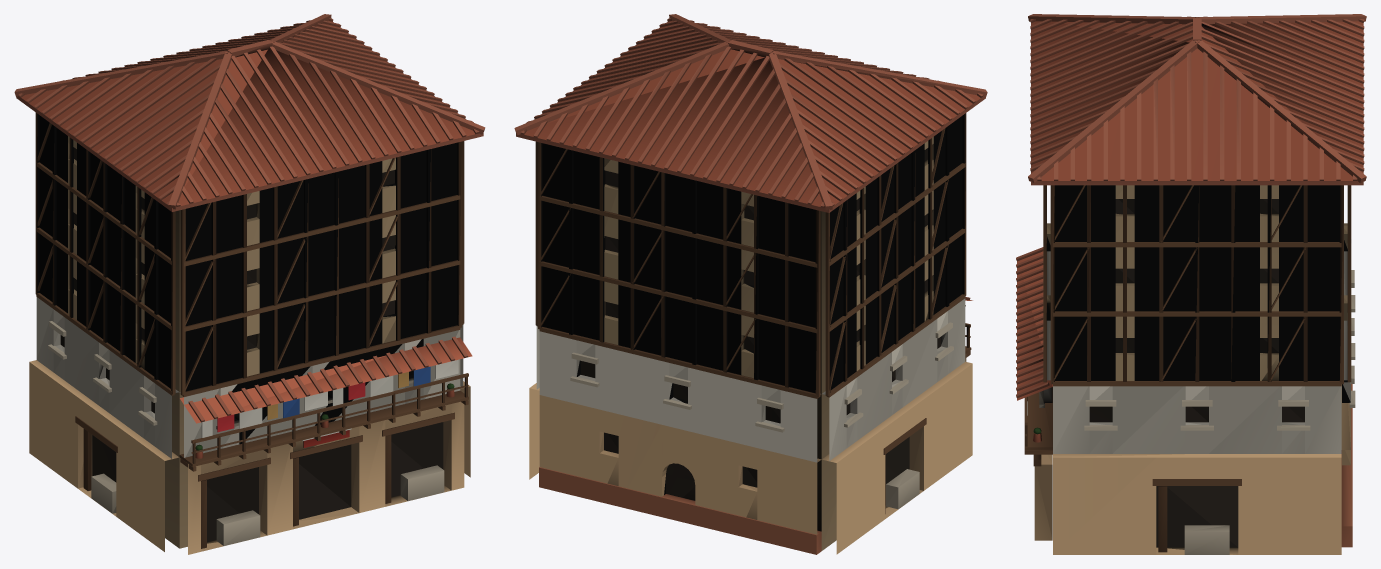
The model's file is rome_insula_a.glb.
3 renders of one model, left to right at view 1: azimuth 30°, elevation 25°; view 2: azimuth 150°, elevation 25°; view 3: azimuth 270°, elevation 25°, orthographic. The views are drawn at different scales.
Visible parts, largest first — view 1: rome_insula_a; view 2: rome_insula_a; view 3: rome_insula_a.
Part boxes in pixels (left/top/right/bottom): rome_insula_a: left=14, top=14, right=485, bottom=554; rome_insula_a: left=514, top=14, right=987, bottom=554; rome_insula_a: left=1016, top=14, right=1366, bottom=554.
Size of the model in its own units: 15.26 by 19.27 by 13.71.
